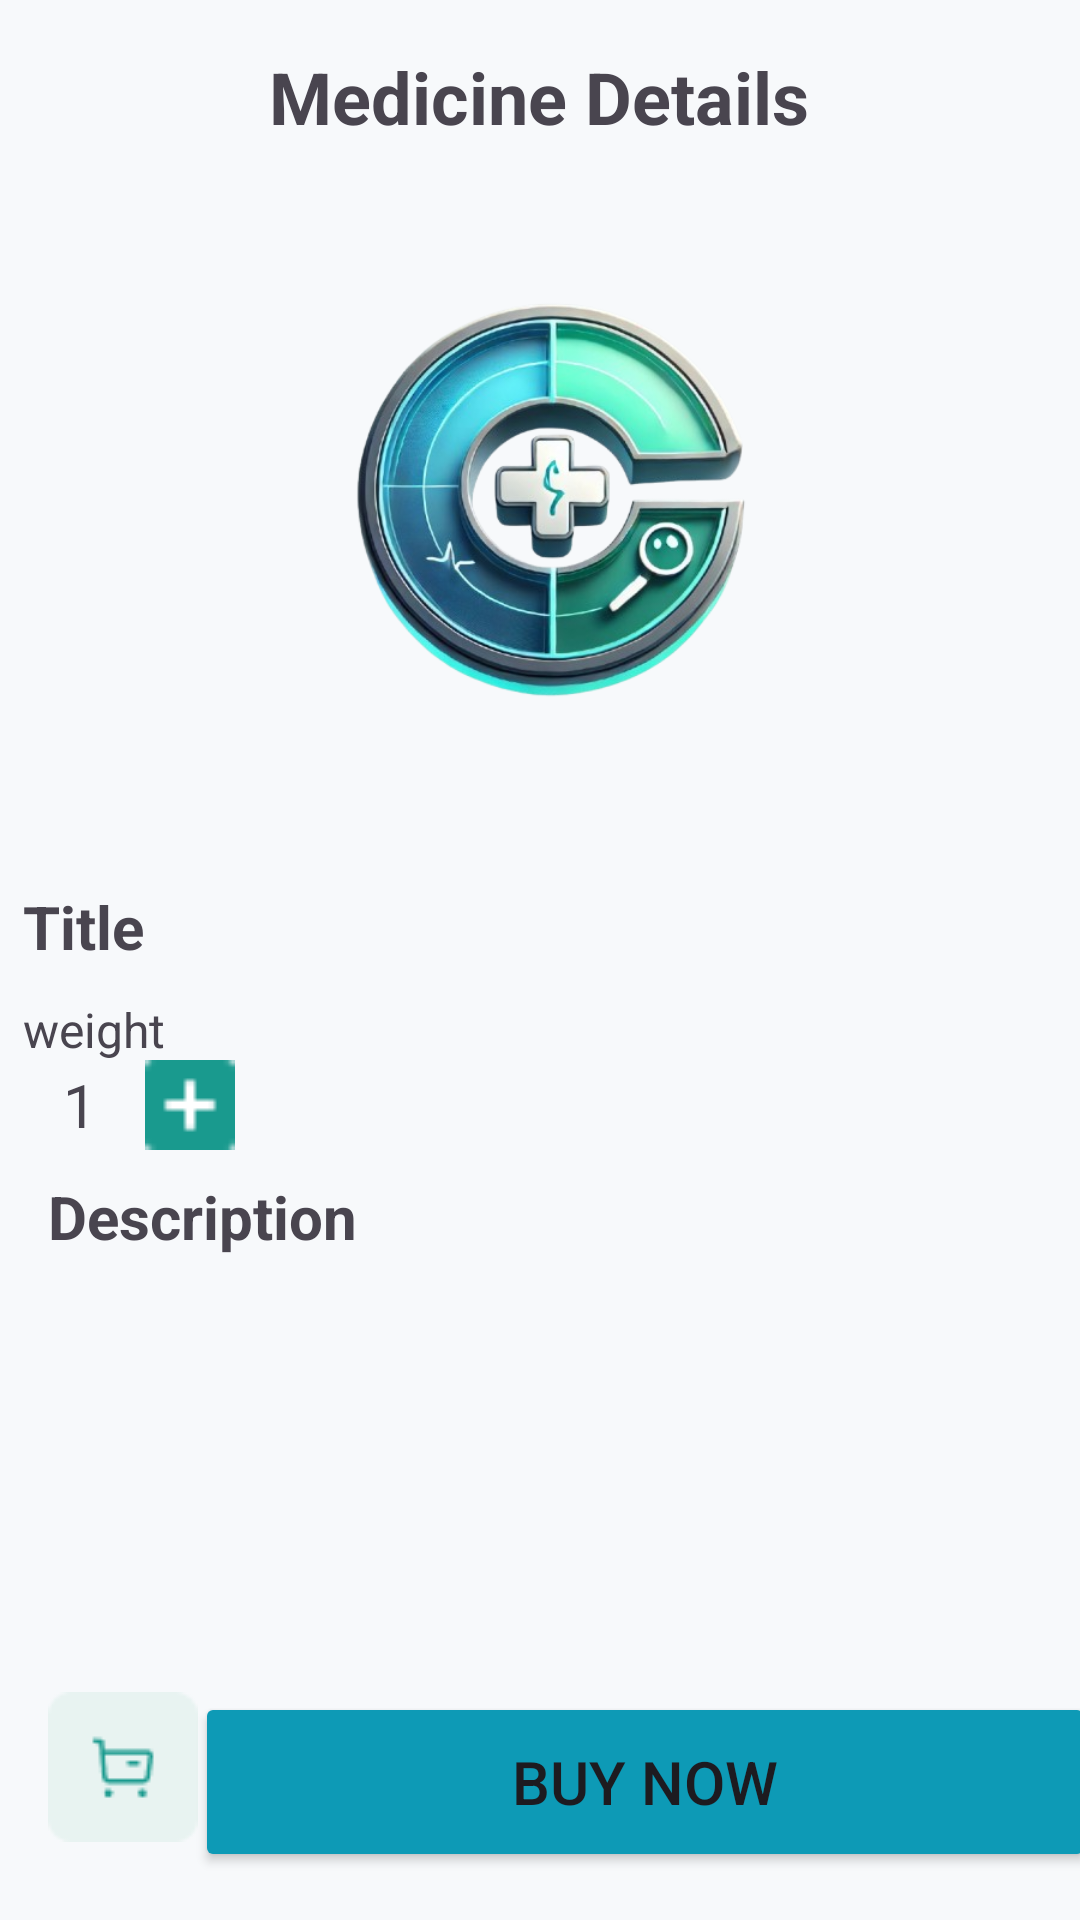

Where icons sit on this 1080 × 1920 app screen, as (x1, y1, x2, y2):
addtocart: (48, 1692, 198, 1842)
plus: (145, 1060, 235, 1150)
